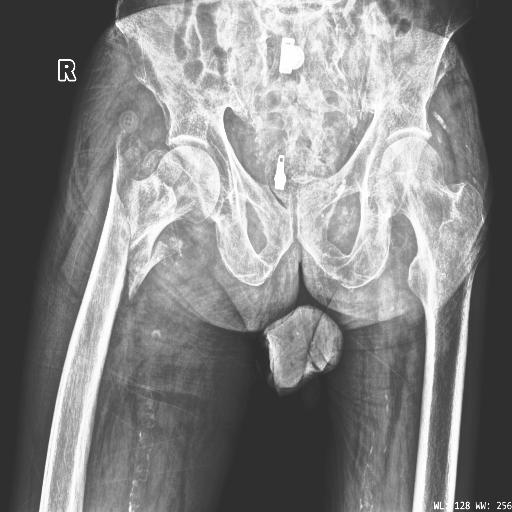intertrochanteric: (127, 145, 220, 301), (85, 129, 128, 307)
